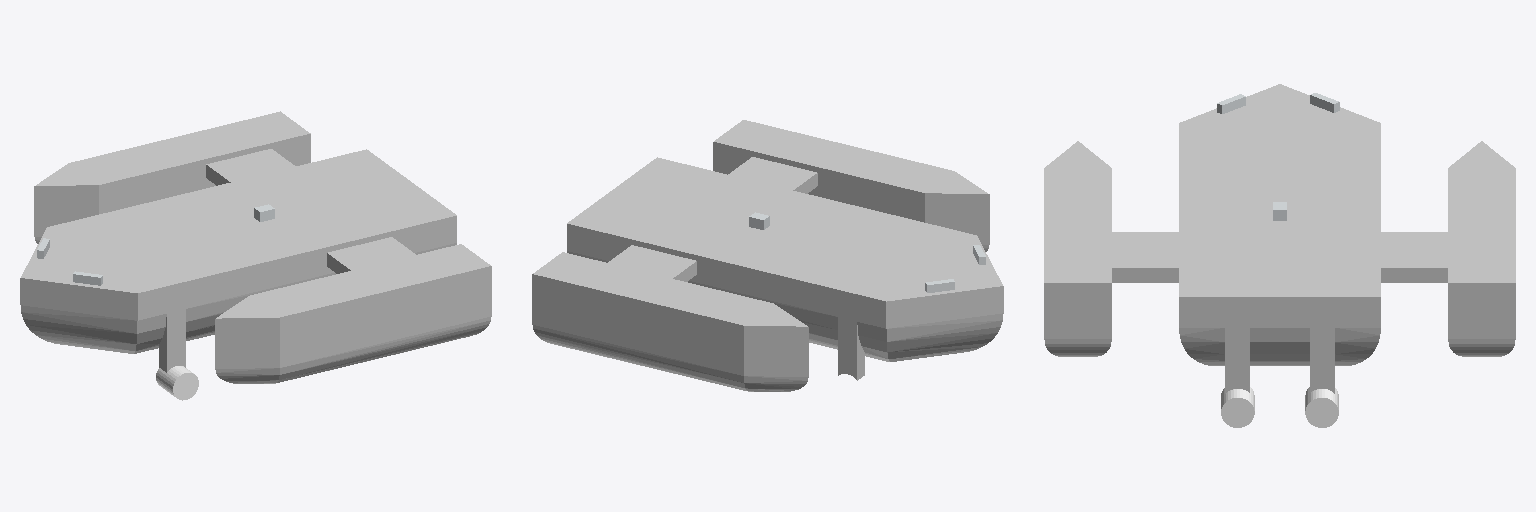
URDF robot description (Assem1.SLDASM):
<?xml version="1.0" encoding="utf-8"?>
<!-- This URDF was automatically created by SolidWorks to URDF Exporter! Originally created by [author] ([email redacted]) 
     Commit Version: 1.6.0-4-g7f85cfe  Build Version: 1.6.7995.38578
     For more information, please see http://wiki.ros.org/sw_urdf_exporter -->
<robot
  name="Assem1.SLDASM">
  <link
    name="base_link">
    <inertial>
      <origin
        xyz="-0.11829 -0.13628 3.5905E-07"
        rpy="0 0 0" />
      <mass
        value="528.78" />
      <inertia
        ixx="16.918"
        ixy="0.014502"
        ixz="1.0489E-05"
        iyy="92.866"
        iyz="-4.5819E-06"
        izz="83.016" />
    </inertial>
    <visual>
      <origin
        xyz="0 0 0"
        rpy="0 0 0" />
      <geometry>
        <mesh
          filename="package://Assem1.SLDASM/meshes/base_link.STL" />
      </geometry>
      <material
        name="">
        <color
          rgba="0.84706 0.84706 0.84706 1" />
      </material>
    </visual>
    <collision>
      <origin
        xyz="0 0 0"
        rpy="0 0 0" />
      <geometry>
        <mesh
          filename="package://Assem1.SLDASM/meshes/base_link.STL" />
      </geometry>
    </collision>
  </link>
  <link
    name="bridge">
    <inertial>
      <origin
        xyz="-2.7756E-17 0 -0.4"
        rpy="0 0 0" />
      <mass
        value="12.2" />
      <inertia
        ixx="0.043208"
        ixy="5.5114E-19"
        ixz="-2.3809E-18"
        iyy="0.10421"
        iyz="-4.4091E-19"
        izz="0.066083" />
    </inertial>
    <visual>
      <origin
        xyz="0 0 0"
        rpy="0 0 0" />
      <geometry>
        <mesh
          filename="package://Assem1.SLDASM/meshes/bridge.STL" />
      </geometry>
      <material
        name="">
        <color
          rgba="0.84706 0.84706 0.84706 1" />
      </material>
    </visual>
    <collision>
      <origin
        xyz="0 0 0"
        rpy="0 0 0" />
      <geometry>
        <mesh
          filename="package://Assem1.SLDASM/meshes/bridge.STL" />
      </geometry>
    </collision>
  </link>
  <joint
    name="base_to_bridge"
    type="fixed">
    <origin
      xyz="0.19 -0.4 -0.045"
      rpy="1.5708 0 0" />
    <parent
      link="base_link" />
    <child
      link="bridge" />
    <axis
      xyz="0 0 0" />
  </joint>
  <link
    name="floaters">
    <inertial>
      <origin
        xyz="0.04636 0.0091077 -0.6"
        rpy="0 0 0" />
      <mass
        value="225.29" />
      <inertia
        ixx="1.9346"
        ixy="0.012616"
        ixz="1.7937E-05"
        iyy="16.089"
        iyz="-3.1596E-05"
        izz="16.689" />
    </inertial>
    <visual>
      <origin
        xyz="0 0 0"
        rpy="0 0 0" />
      <geometry>
        <mesh
          filename="package://Assem1.SLDASM/meshes/floaters.STL" />
      </geometry>
      <material
        name="">
        <color
          rgba="0.84706 0.84706 0.84706 1" />
      </material>
    </visual>
    <collision>
      <origin
        xyz="0 0 0"
        rpy="0 0 0" />
      <geometry>
        <mesh
          filename="package://Assem1.SLDASM/meshes/floaters.STL" />
      </geometry>
    </collision>
  </link>
  <joint
    name="bridge_to_floaters"
    type="fixed">
    <origin
      xyz="-0.225 -0.0925 0.2"
      rpy="0 0 0" />
    <parent
      link="bridge" />
    <child
      link="floaters" />
    <axis
      xyz="0 0 0" />
  </joint>
  <link
    name="gnss">
    <inertial>
      <origin
        xyz="1.0398E-17 0 4.1477E-18"
        rpy="0 0 0" />
      <mass
        value="0.2276" />
      <inertia
        ixx="5.7342E-05"
        ixy="-7.3907E-22"
        ixz="-1.2276E-22"
        iyy="9.2272E-05"
        iyz="-1.021E-37"
        izz="8.616E-05" />
    </inertial>
    <visual>
      <origin
        xyz="0 0 0"
        rpy="0 0 0" />
      <geometry>
        <mesh
          filename="package://Assem1.SLDASM/meshes/gnss.STL" />
      </geometry>
      <material
        name="">
        <color
          rgba="0.89804 0.91765 0.92941 1" />
      </material>
    </visual>
    <collision>
      <origin
        xyz="0 0 0"
        rpy="0 0 0" />
      <geometry>
        <mesh
          filename="package://Assem1.SLDASM/meshes/gnss.STL" />
      </geometry>
    </collision>
  </link>
  <joint
    name="base-to-gnss"
    type="fixed">
    <origin
      xyz="0 0 0.018375"
      rpy="1.5708 0 0" />
    <parent
      link="base_link" />
    <child
      link="gnss" />
    <axis
      xyz="0 0 0" />
  </joint>
  <link
    name="camera_left">
    <inertial>
      <origin
        xyz="1.1102E-16 1.7347E-18 0"
        rpy="0 0 0" />
      <mass
        value="0.17715" />
      <inertia
        ixx="2.0724E-05"
        ixy="2.2434E-21"
        ixz="-2.99E-19"
        iyy="0.00014678"
        iyz="-6.7661E-22"
        izz="0.00015175" />
    </inertial>
    <visual>
      <origin
        xyz="0 0 0"
        rpy="0 0 0" />
      <geometry>
        <mesh
          filename="package://Assem1.SLDASM/meshes/camera_left.STL" />
      </geometry>
      <material
        name="">
        <color
          rgba="0.89804 0.91765 0.92941 1" />
      </material>
    </visual>
    <collision>
      <origin
        xyz="0 0 0"
        rpy="0 0 0" />
      <geometry>
        <mesh
          filename="package://Assem1.SLDASM/meshes/camera_left.STL" />
      </geometry>
    </collision>
  </link>
  <joint
    name="base-to-cam_left"
    type="fixed">
    <origin
      xyz="-0.75994 -0.14428 0.01475"
      rpy="1.5708 0 -0.82885" />
    <parent
      link="base_link" />
    <child
      link="camera_left" />
    <axis
      xyz="0 0 0" />
  </joint>
  <link
    name="camera_right">
    <inertial>
      <origin
        xyz="5.5511E-17 -1.7347E-18 0"
        rpy="0 0 0" />
      <mass
        value="0.17715" />
      <inertia
        ixx="2.0724E-05"
        ixy="4.2381E-21"
        ixz="2.863E-19"
        iyy="0.00014678"
        iyz="-3.9481E-22"
        izz="0.00015175" />
    </inertial>
    <visual>
      <origin
        xyz="0 0 0"
        rpy="0 0 0" />
      <geometry>
        <mesh
          filename="package://Assem1.SLDASM/meshes/camera_right.STL" />
      </geometry>
      <material
        name="">
        <color
          rgba="0.89804 0.91765 0.92941 1" />
      </material>
    </visual>
    <collision>
      <origin
        xyz="0 0 0"
        rpy="0 0 0" />
      <geometry>
        <mesh
          filename="package://Assem1.SLDASM/meshes/camera_right.STL" />
      </geometry>
    </collision>
  </link>
  <joint
    name="base-to-cam_right"
    type="fixed">
    <origin
      xyz="-0.76997 0.13334 0.01475"
      rpy="1.5708 0 0.82885" />
    <parent
      link="base_link" />
    <child
      link="camera_right" />
    <axis
      xyz="0 0 0" />
  </joint>
  <link
    name="surge_left">
    <inertial>
      <origin
        xyz="0 0 0"
        rpy="0 0 0" />
      <mass
        value="2.059" />
      <inertia
        ixx="0.0034778"
        ixy="0"
        ixz="1.3124E-19"
        iyy="0.0034778"
        iyz="1.7543E-20"
        izz="0.0025737" />
    </inertial>
    <visual>
      <origin
        xyz="0 0 0"
        rpy="0 0 0" />
      <geometry>
        <mesh
          filename="package://Assem1.SLDASM/meshes/surge_left.STL" />
      </geometry>
      <material
        name="">
        <color
          rgba="1 1 1 1" />
      </material>
    </visual>
    <collision>
      <origin
        xyz="0 0 0"
        rpy="0 0 0" />
      <geometry>
        <mesh
          filename="package://Assem1.SLDASM/meshes/surge_left.STL" />
      </geometry>
    </collision>
  </link>
  <joint
    name="base-to-surge_left"
    type="fixed">
    <origin
      xyz="0.5715 -0.12522 -0.35"
      rpy="1.5708 -0.33077 1.5708" />
    <parent
      link="base_link" />
    <child
      link="surge_left" />
    <axis
      xyz="0 0 0" />
  </joint>
  <link
    name="surge_right">
    <inertial>
      <origin
        xyz="-5.5511E-17 -2.7756E-17 0"
        rpy="0 0 0" />
      <mass
        value="2.059" />
      <inertia
        ixx="0.0034778"
        ixy="-1.0842E-19"
        ixz="1.8926E-19"
        iyy="0.0034778"
        iyz="-2.8603E-20"
        izz="0.0025737" />
    </inertial>
    <visual>
      <origin
        xyz="0 0 0"
        rpy="0 0 0" />
      <geometry>
        <mesh
          filename="package://Assem1.SLDASM/meshes/surge_right.STL" />
      </geometry>
      <material
        name="">
        <color
          rgba="1 1 1 1" />
      </material>
    </visual>
    <collision>
      <origin
        xyz="0 0 0"
        rpy="0 0 0" />
      <geometry>
        <mesh
          filename="package://Assem1.SLDASM/meshes/surge_right.STL" />
      </geometry>
    </collision>
  </link>
  <joint
    name="base-to-surge_right"
    type="fixed">
    <origin
      xyz="0.5715 0.12522 -0.35"
      rpy="-1.5708 1.179 1.5708" />
    <parent
      link="base_link" />
    <child
      link="surge_right" />
    <axis
      xyz="0 0 0" />
  </joint>
  <link
    name="sway_left">
    <inertial>
      <origin
        xyz="0 5.5511E-17 -5.5511E-17"
        rpy="0 0 0" />
      <mass
        value="2.059" />
      <inertia
        ixx="0.0034778"
        ixy="0"
        ixz="0"
        iyy="0.0034778"
        iyz="-1.1241E-35"
        izz="0.0025737" />
    </inertial>
    <visual>
      <origin
        xyz="0 0 0"
        rpy="0 0 0" />
      <geometry>
        <mesh
          filename="package://Assem1.SLDASM/meshes/sway_left.STL" />
      </geometry>
      <material
        name="">
        <color
          rgba="1 1 1 1" />
      </material>
    </visual>
    <collision>
      <origin
        xyz="0 0 0"
        rpy="0 0 0" />
      <geometry>
        <mesh
          filename="package://Assem1.SLDASM/meshes/sway_left.STL" />
      </geometry>
    </collision>
  </link>
  <joint
    name="base-to-sway_left"
    type="fixed">
    <origin
      xyz="-0.51049 -0.3065 -0.35"
      rpy="1.5708 0 0" />
    <parent
      link="base_link" />
    <child
      link="sway_left" />
    <axis
      xyz="0 0 0" />
  </joint>
  <link
    name="sway_right">
    <inertial>
      <origin
        xyz="0 0 0"
        rpy="0 0 0" />
      <mass
        value="0" />
      <inertia
        ixx="0"
        ixy="0"
        ixz="0"
        iyy="0"
        iyz="0"
        izz="0" />
    </inertial>
    <visual>
      <origin
        xyz="0 0 0"
        rpy="0 0 0" />
      <geometry>
        <mesh
          filename="package://Assem1.SLDASM/meshes/sway_right.STL" />
      </geometry>
      <material
        name="">
        <color
          rgba="1 1 1 1" />
      </material>
    </visual>
    <collision>
      <origin
        xyz="0 0 0"
        rpy="0 0 0" />
      <geometry>
        <mesh
          filename="package://Assem1.SLDASM/meshes/sway_right.STL" />
      </geometry>
    </collision>
  </link>
  <joint
    name="base-to-sway_right"
    type="fixed">
    <origin
      xyz="-0.51049 0.3065 -0.35"
      rpy="1.5708 0 0" />
    <parent
      link="base_link" />
    <child
      link="sway_right" />
    <axis
      xyz="0 0 0" />
  </joint>
</robot>

--- Facts derived from the render (not from the file) ---
3 views of the same robot in one strip: view 1: azimuth 30°, elevation 25°; view 2: azimuth 150°, elevation 25°; view 3: azimuth 270°, elevation 25° (orthographic).
Model Assem1.SLDASM with 10 links and 9 joints (9 fixed), rooted at base_link, posed every joint at zero.
Visible links, largest first — view 1: base_link, floaters, bridge, sway_left; view 2: base_link, floaters, bridge; view 3: base_link, floaters, bridge, surge_right, surge_left.
Boxes of the visible links, left/top/right/bottom form: base_link: left=20, top=149, right=456, bottom=372; floaters: left=34, top=111, right=491, bottom=383; bridge: left=206, top=149, right=415, bottom=273; sway_left: left=156, top=366, right=198, bottom=400; base_link: left=567, top=157, right=1003, bottom=380; floaters: left=532, top=120, right=989, bottom=391; bridge: left=608, top=157, right=817, bottom=281; base_link: left=1179, top=84, right=1380, bottom=393; floaters: left=1044, top=141, right=1515, bottom=356; bridge: left=1112, top=232, right=1447, bottom=282; surge_right: left=1305, top=387, right=1338, bottom=427; surge_left: left=1221, top=387, right=1254, bottom=427.
Bounding box of the posed robot: 1.56 × 1.4 × 0.4367 m (x, y, z).
Meshes: 10 distinct files referenced, 9 mesh visuals loaded (9 binary STL); not drawn: 1 (reference not matched to a file when rendering).